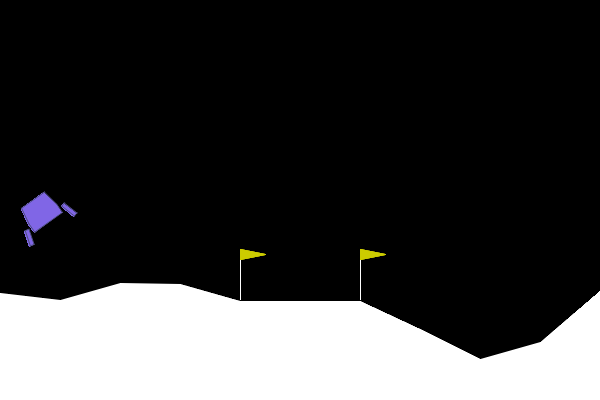lander: (7, 182, 79, 249)
